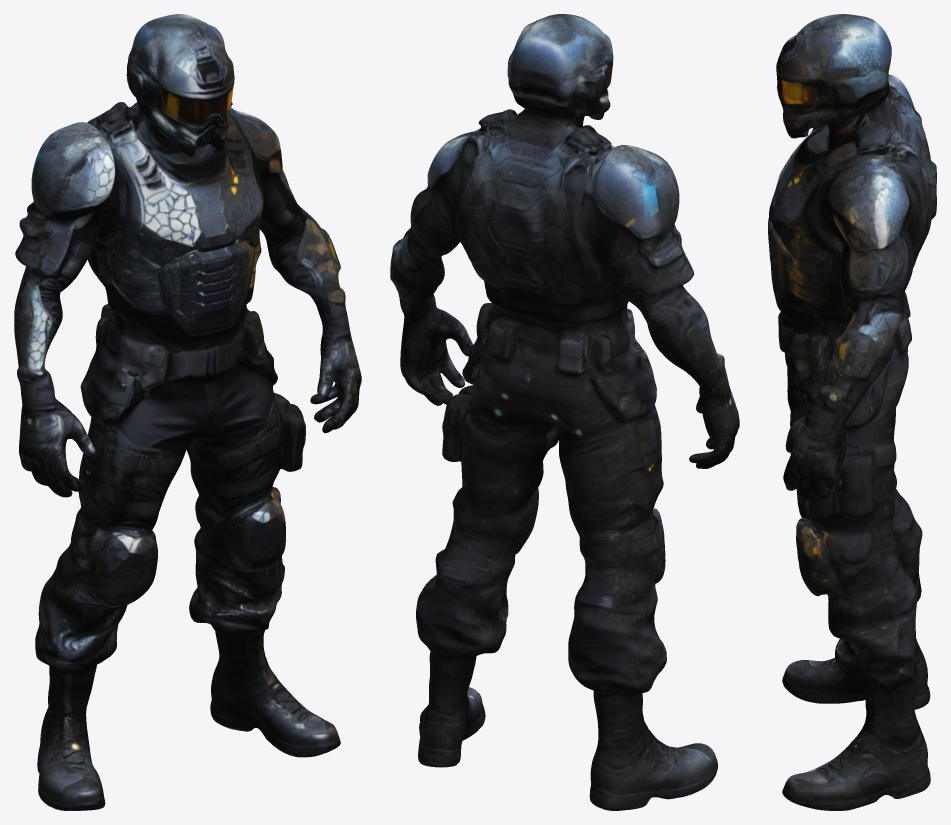
Rendered from bandit2.glb.
3 views of the same model, side by side, from view 1: azimuth 30°, elevation 25°; view 2: azimuth 150°, elevation 25°; view 3: azimuth 270°, elevation 25° (orthographic). The views are drawn at different scales.
Size of the model in its own units: 0.929 by 2 by 0.4205.
Materials: 1 (1 with a texture image).
